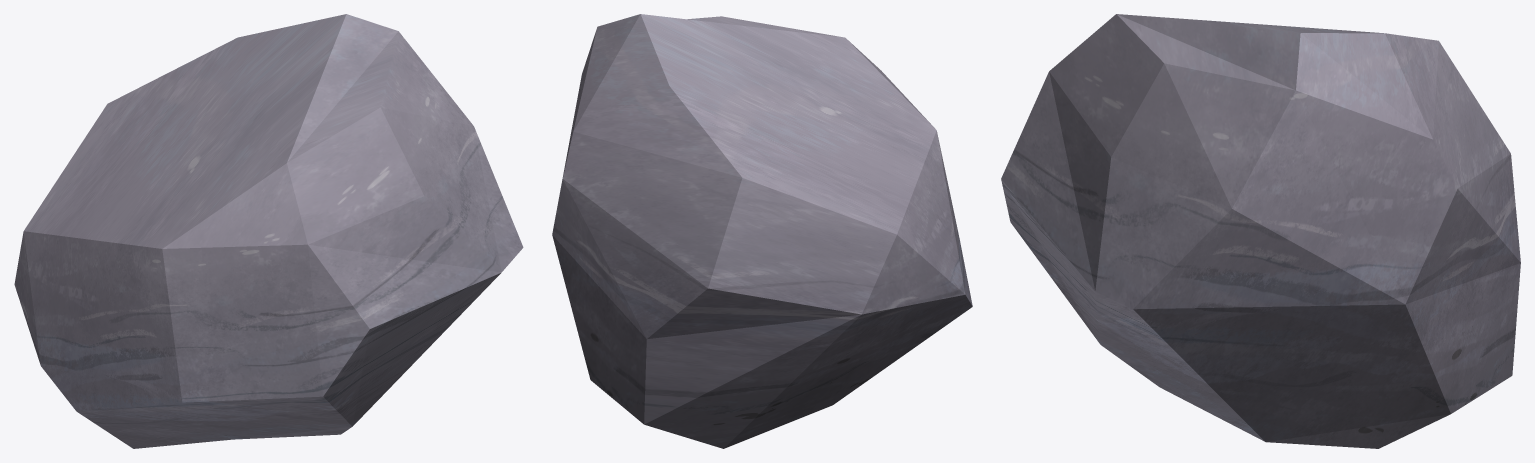
File: rock_2_017.fbx
The picture shows the model from 3 angles, left to right: view 1: azimuth 30°, elevation 25°; view 2: azimuth 150°, elevation 25°; view 3: azimuth 270°, elevation 25°; orthographic projection. The views are drawn at different scales.
Parts seen in each view (by area): view 1: rock 2.017; view 2: rock 2.017; view 3: rock 2.017.
Boxes of the visible parts, <box> form: rock 2.017: <box>14,14,523,448</box>; rock 2.017: <box>552,14,972,448</box>; rock 2.017: <box>1001,14,1520,448</box>.
Bounding box in the file's own units: 953 × 854 × 901.
